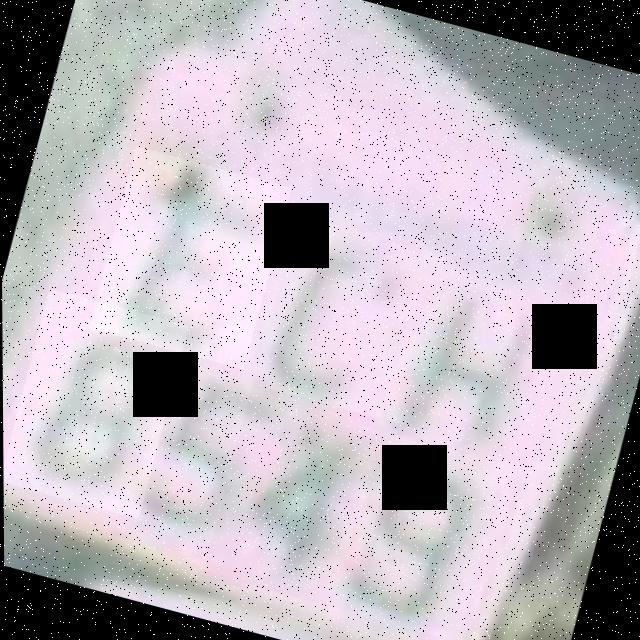4: (200, 384, 407, 614)
5: (108, 342, 295, 552)
8: (2, 288, 189, 518)
9: (312, 425, 504, 640)
B: (87, 146, 291, 369)
